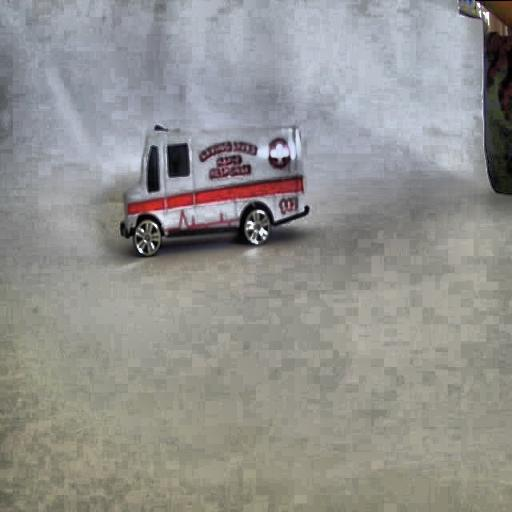ambulance: (119, 124, 309, 256)
